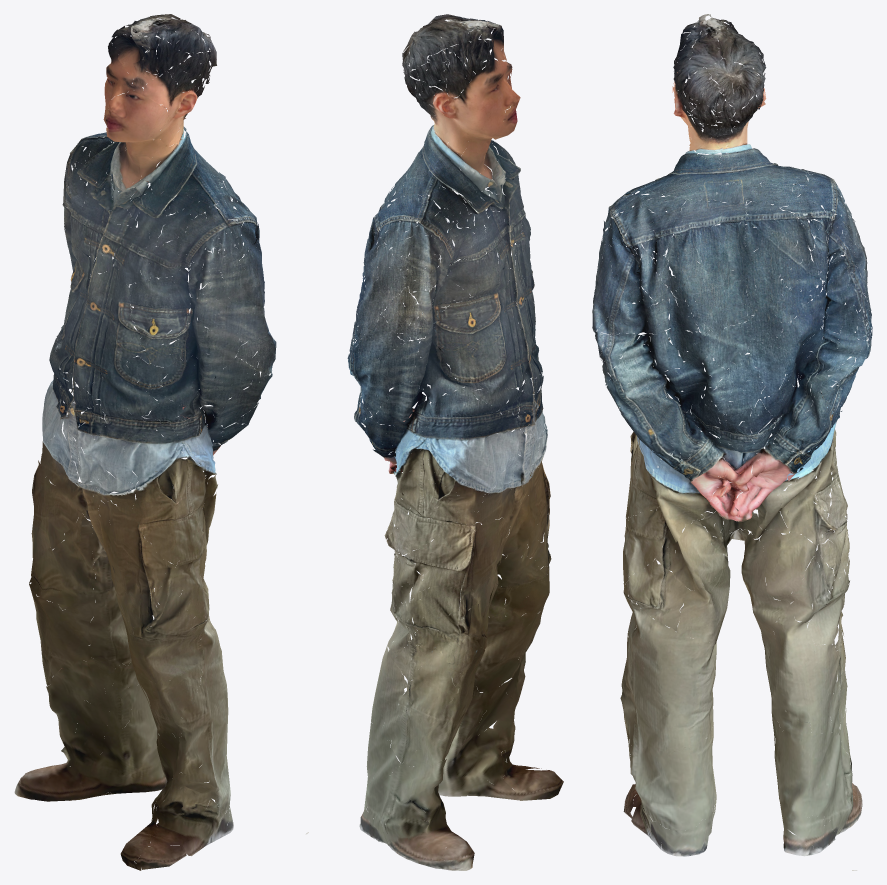
Rendered from newkorean.glb.
3 views of the same model, side by side, from view 1: azimuth 30°, elevation 25°; view 2: azimuth 150°, elevation 25°; view 3: azimuth 270°, elevation 25° (orthographic). The views are drawn at different scales.
Parts seen in each view (by area): view 1: Object_5, Object_4; view 2: Object_5, Object_4; view 3: Object_4, Object_5.
Boxes of the visible parts, <box> form: Object_5: <box>14,26,272,847</box>; Object_4: <box>29,14,276,870</box>; Object_5: <box>305,23,551,870</box>; Object_4: <box>347,14,563,838</box>; Object_4: <box>595,17,872,856</box>; Object_5: <box>592,14,872,870</box>.
Bounding box in the file's own units: 0.5886 × 2.6 × 0.824.
Materials: 1 (1 with a texture image).
